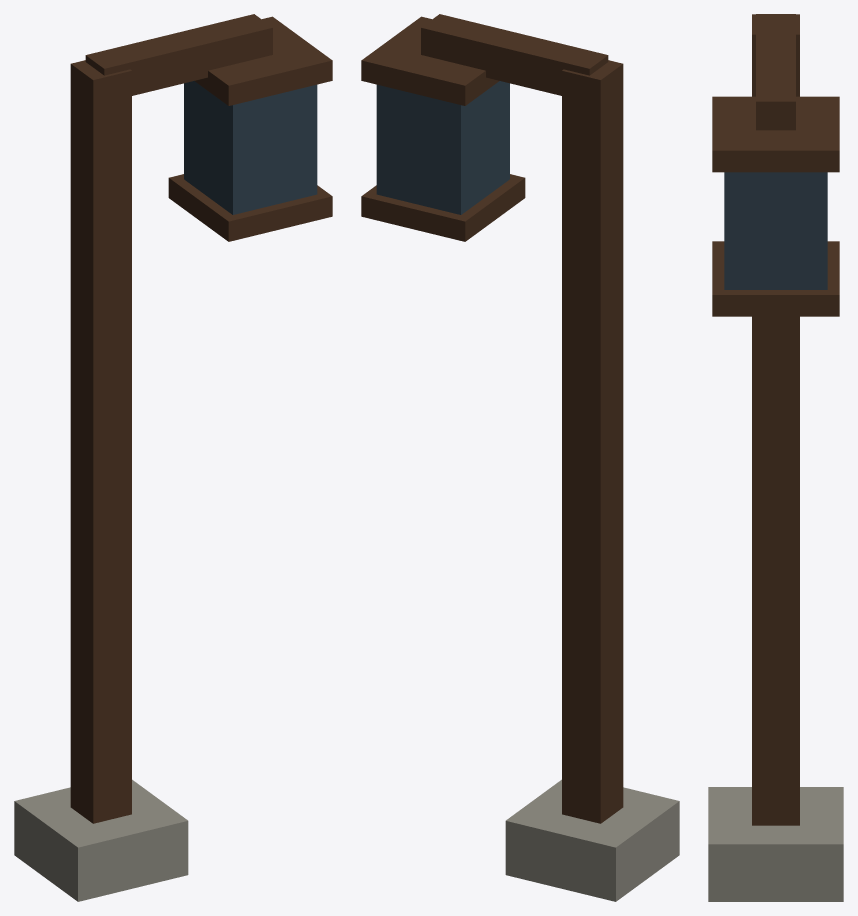
File: prop_lamp.glb
3 renders of one model, left to right at view 1: azimuth 30°, elevation 25°; view 2: azimuth 150°, elevation 25°; view 3: azimuth 270°, elevation 25°, orthographic. The views are drawn at different scales.
Visible parts, largest first — view 1: prop_lamp; view 2: prop_lamp; view 3: prop_lamp.
Boxes of the visible parts, x1=… form: prop_lamp: x1=14, y1=14, x2=332, y2=901; prop_lamp: x1=361, y1=14, x2=679, y2=901; prop_lamp: x1=708, y1=14, x2=843, y2=901.
Bounding box in the file's own units: 0.79 × 2.37 × 0.34.
